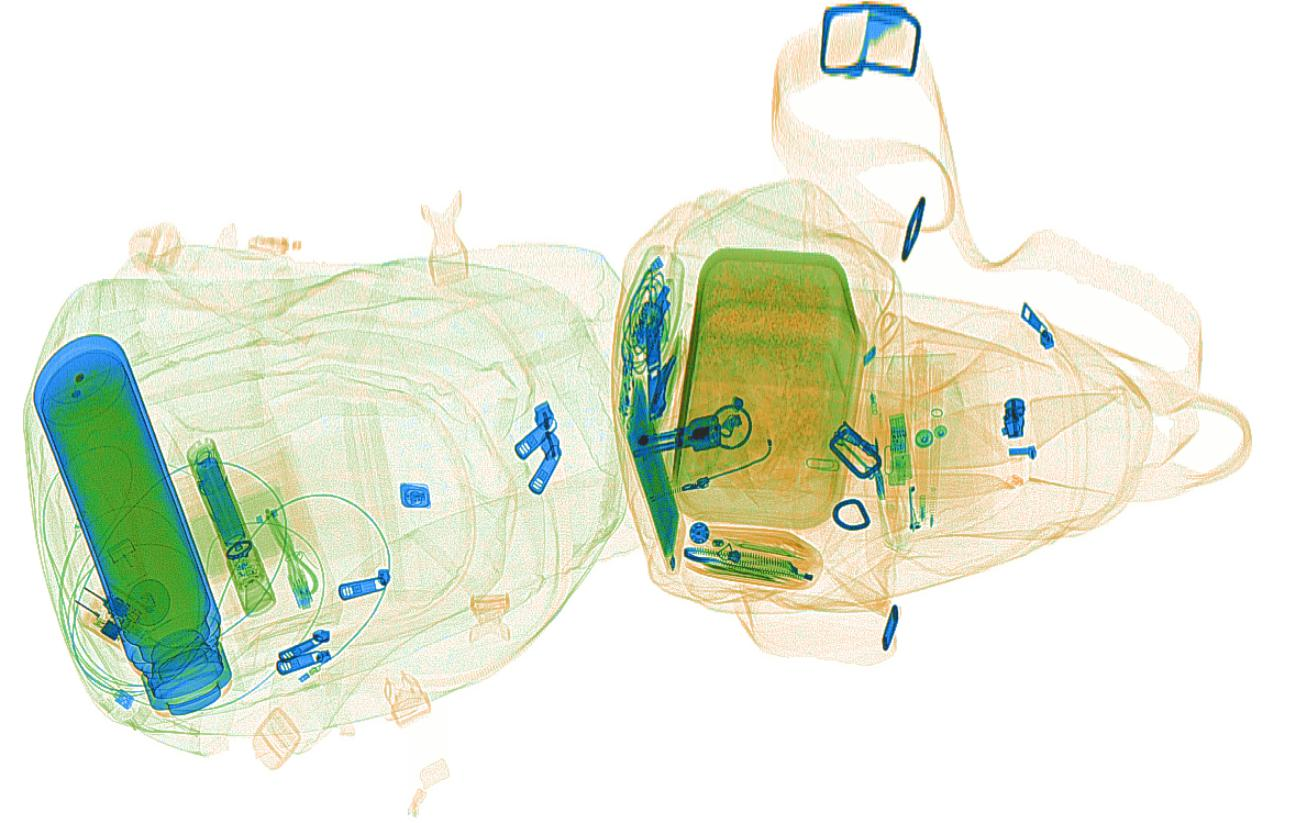USBFlashDisk: (887, 411, 912, 487)
battery: (188, 456, 247, 547)
